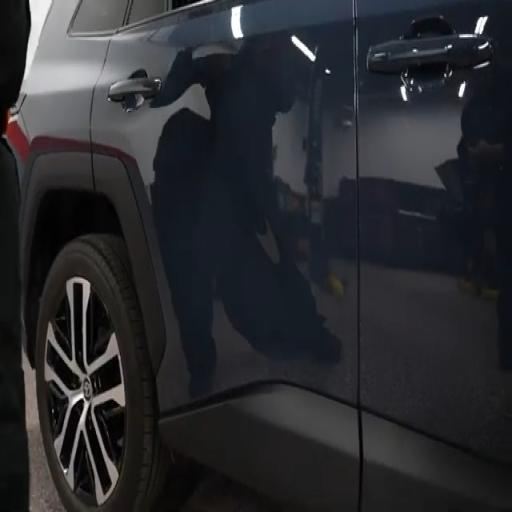door: (92, 0, 359, 510), (357, 0, 511, 510)
tire: (47, 278, 125, 504)
wheel: (36, 235, 167, 511)
window: (71, 0, 128, 34), (127, 0, 204, 24), (128, 0, 169, 24)
